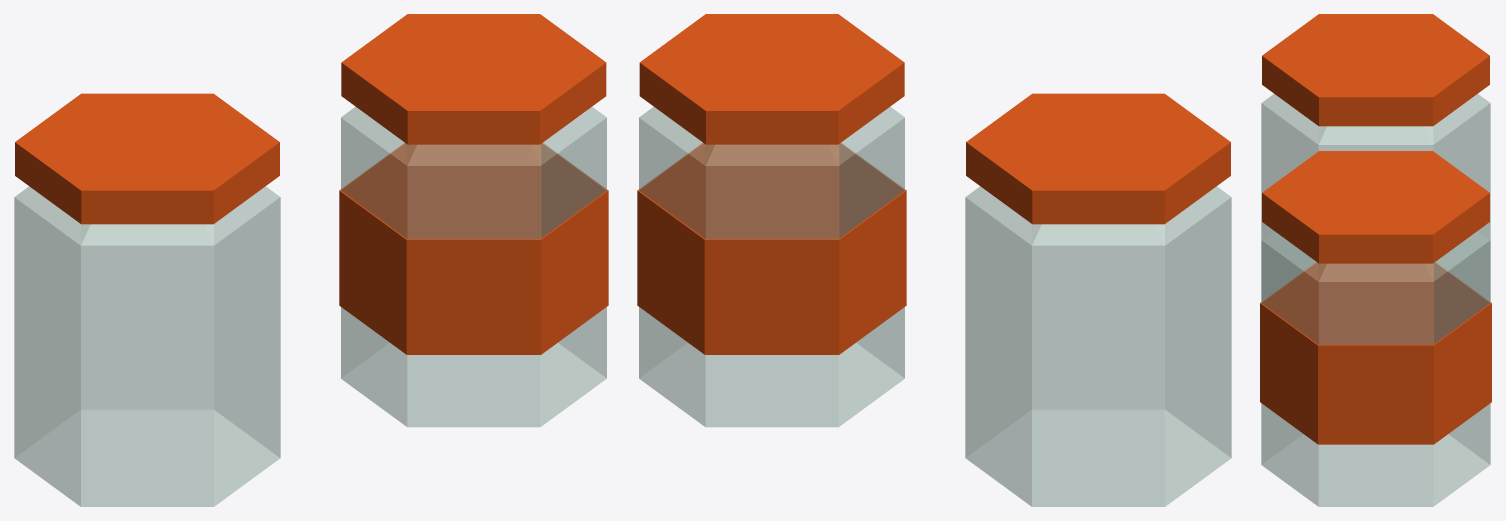
The model's file is salt_kitchen_asset.fbx.
3 views of the same model, side by side, from view 1: azimuth 30°, elevation 25°; view 2: azimuth 150°, elevation 25°; view 3: azimuth 270°, elevation 25° (orthographic). The views are drawn at different scales.
Visible parts, largest first — view 1: Cylinder.025, Cylinder.024; view 2: Cylinder.025, Cylinder.024; view 3: Cylinder.025, Cylinder.024.
Part boxes in pixels (box(x1,y1,x2,y2)): Cylinder.025: box(339, 14, 608, 427); Cylinder.024: box(14, 93, 280, 506); Cylinder.025: box(637, 14, 906, 427); Cylinder.024: box(965, 93, 1231, 506); Cylinder.025: box(1260, 151, 1491, 506); Cylinder.024: box(1261, 14, 1490, 300).
Bounding box in the file's own units: 33.54 × 19.21 × 14.84.
